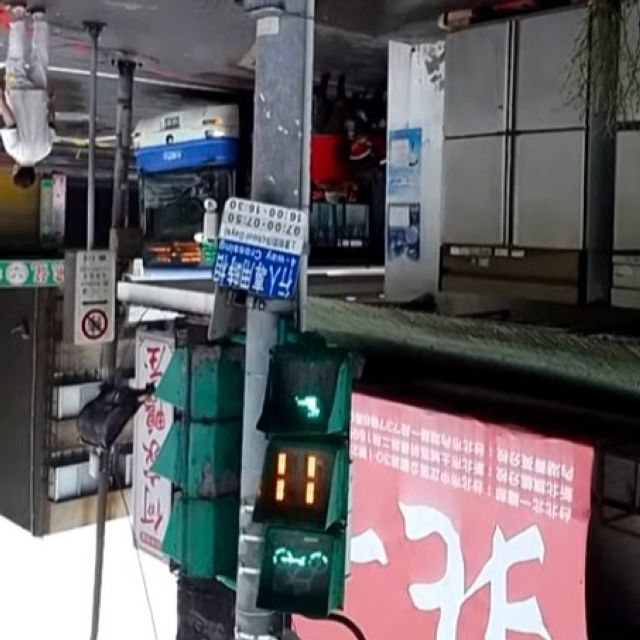green_light: (268, 352, 346, 614)
